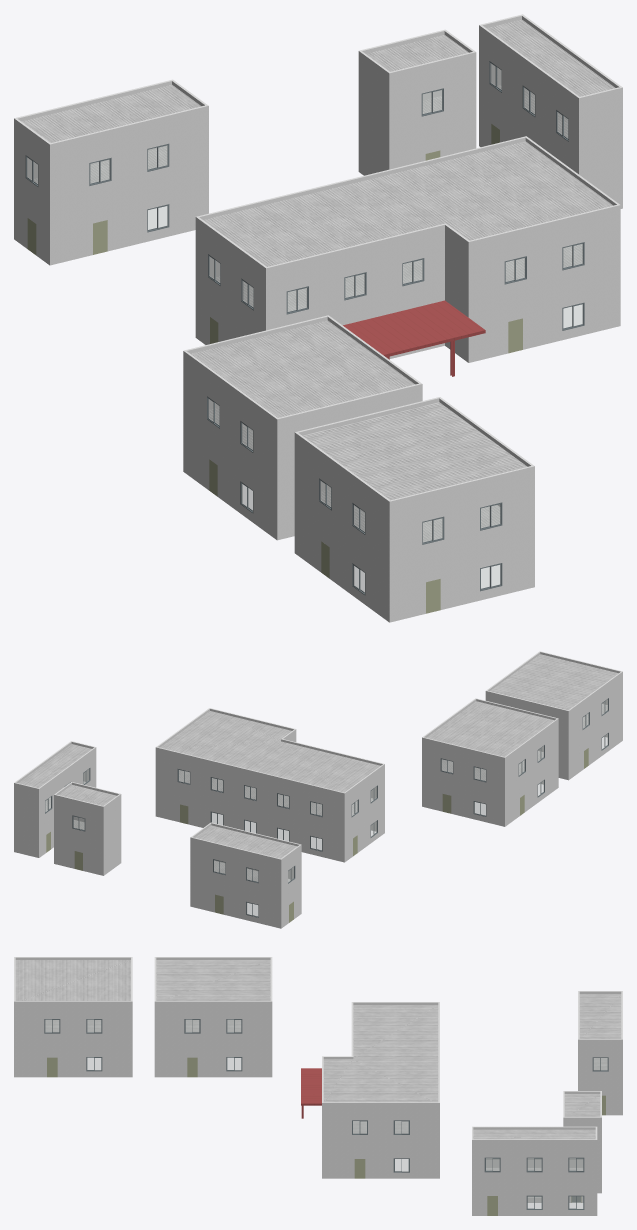
The model's file is Plan(REF)_levels(2)_window(W Sliding2 23_4)_wall(WAFRA WALL)_quoin(N)_cornice(N).fbx.
3 views of the same model, one above another, from view 1: azimuth 30°, elevation 25°; view 2: azimuth 150°, elevation 25°; view 3: azimuth 270°, elevation 25° (orthographic). The views are drawn at different scales.
Parts seen in each view (by area): view 1: WAFRA Stucco - White Rough 23, WAFRA Roof - Corrugated Sheet Matte 23, Glass - Clear, Metal - Finish - Aluminum, WAFRA Roof - Standing Seam Red Coat 23, Color - Beige; view 2: WAFRA Stucco - White Rough 23, WAFRA Roof - Corrugated Sheet Matte 23, Glass - Clear, Metal - Finish - Aluminum, Color - Beige; view 3: WAFRA Stucco - White Rough 23, WAFRA Roof - Corrugated Sheet Matte 23, Glass - Clear, Metal - Finish - Aluminum, Color - Beige, WAFRA Roof - Standing Seam Red Coat 23.
Boxes of the visible parts, <box> form: WAFRA Stucco - White Rough 23: <box>14,14,622,622</box>; WAFRA Roof - Corrugated Sheet Matte 23: <box>21,19,615,541</box>; Glass - Clear: <box>27,63,582,591</box>; Metal - Finish - Aluminum: <box>25,61,584,595</box>; WAFRA Roof - Standing Seam Red Coat 23: <box>343,300,485,376</box>; Color - Beige: <box>27,124,522,613</box>; WAFRA Stucco - White Rough 23: <box>14,651,622,928</box>; WAFRA Roof - Corrugated Sheet Matte 23: <box>18,654,618,881</box>; Glass - Clear: <box>45,699,607,915</box>; Metal - Finish - Aluminum: <box>45,698,608,917</box>; Color - Beige: <box>46,748,588,922</box>; WAFRA Stucco - White Rough 23: <box>14,957,622,1215</box>; WAFRA Roof - Corrugated Sheet Matte 23: <box>15,960,621,1170</box>; Glass - Clear: <box>45,1020,607,1208</box>; Metal - Finish - Aluminum: <box>44,1019,608,1209</box>; Color - Beige: <box>47,1057,605,1215</box>; WAFRA Roof - Standing Seam Red Coat 23: <box>301,1068,321,1118</box>.
Bounding box in the file's own units: 4148 × 5833 × 800.
Materials: 11 (4 with a texture image).
